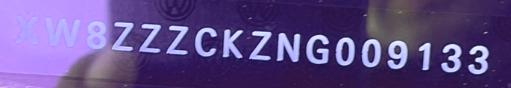letter: (43, 15, 80, 48), (13, 13, 38, 47), (193, 23, 218, 57), (275, 30, 301, 62), (304, 31, 330, 63), (164, 23, 189, 55), (247, 27, 272, 59), (111, 19, 135, 52), (360, 34, 383, 68), (137, 22, 162, 53), (385, 37, 409, 69), (85, 18, 108, 51), (467, 43, 492, 73), (222, 25, 245, 57), (334, 34, 357, 66), (440, 41, 463, 72), (417, 39, 434, 70)
